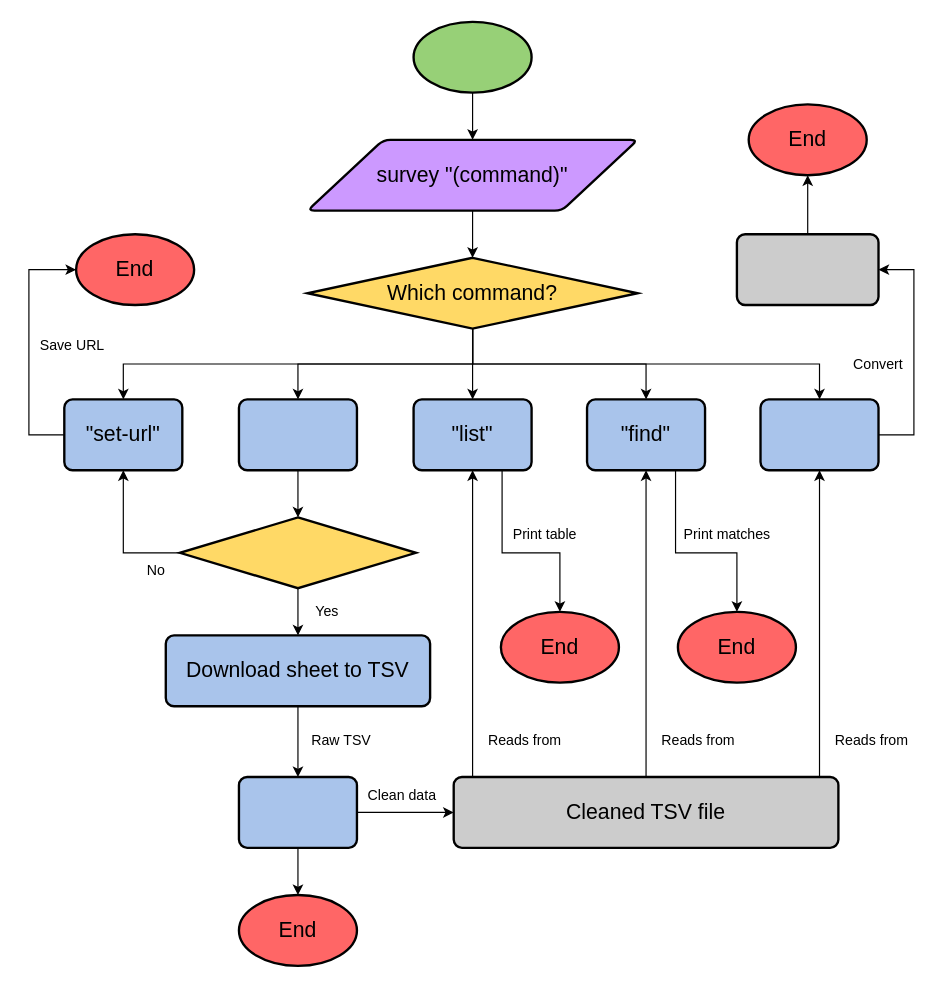
Some shapes in this 944 by 986 pixel diagram are drawn without their labels. The shapes that lost their labels are listed below. From the top down, each one's centre as x and y in pixels, then its label:
the point at 472,56: Start
the point at 807,269: JSON file
the point at 297,434: "sync"
the point at 819,434: "export"
the point at 297,552: URL saved?
the point at 297,811: "clean"
